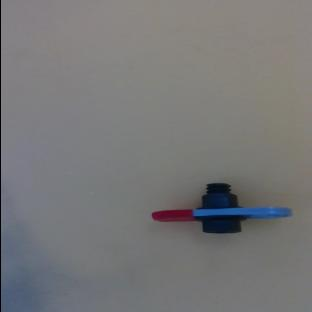part_1_good: (151, 182, 292, 235)
